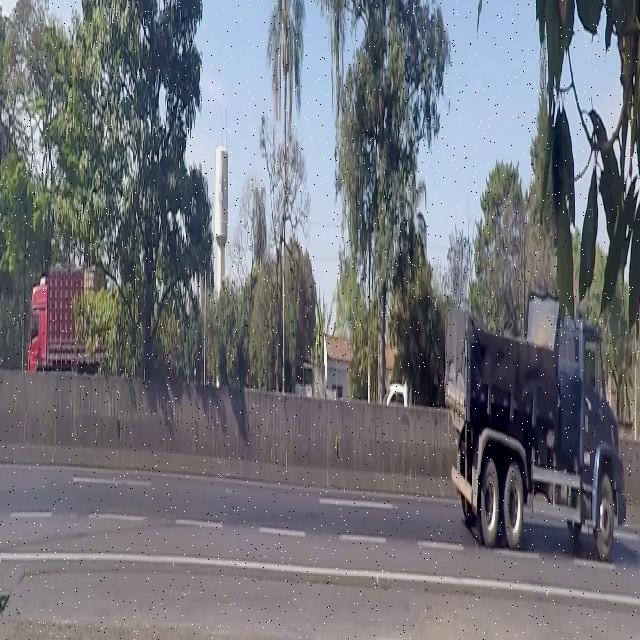-axle: (596, 462, 616, 574), (502, 462, 523, 558), (480, 457, 498, 556)
